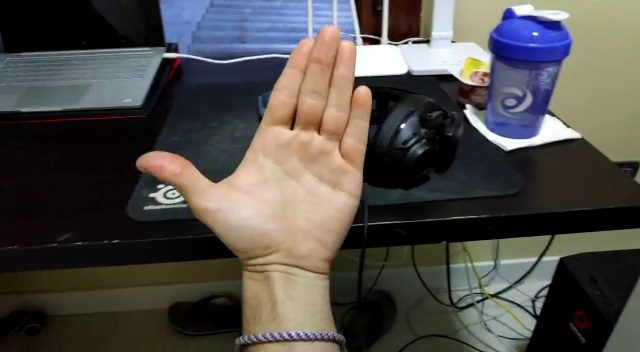Palm: (134, 22, 375, 274)
